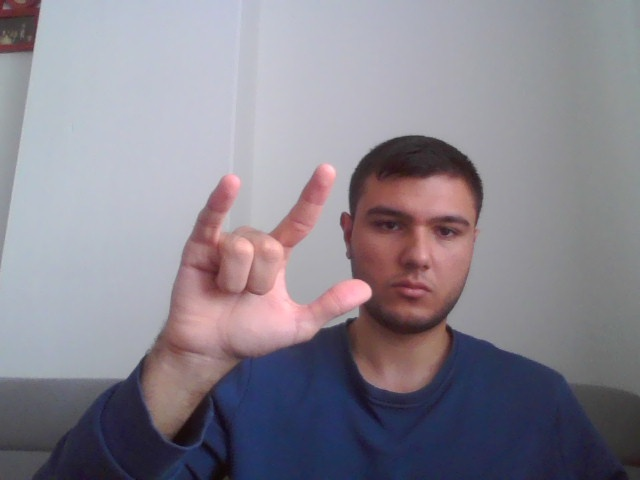ı love you: (163, 163, 373, 356)
